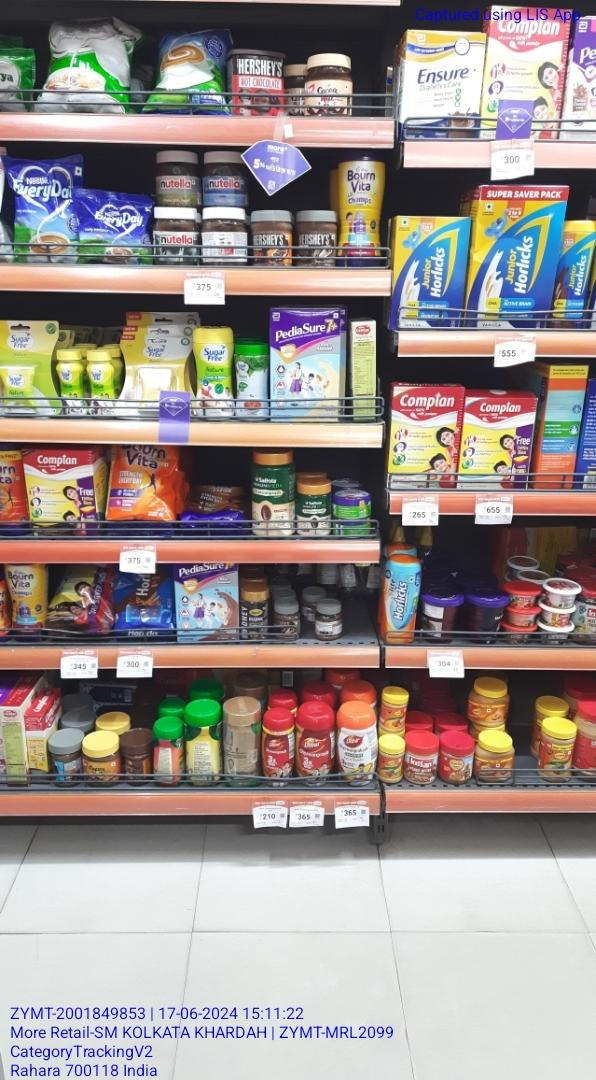BOURN_VITA_500_G_POUCH: (103, 446, 181, 533)
BOURN_VITA_CHAMPS_500_G_JAR: (339, 152, 384, 267), (7, 565, 48, 642)
COMPLAN_CHOCOLATE_500_GMS_PACK: (22, 448, 101, 537)
COMPLAN_CREAMY_CLASSIC_500_G_PACK: (462, 397, 533, 489)
COMPLAN_KESAR_BADAM_500_GMS_PACK: (484, 7, 565, 140), (389, 388, 456, 489)
HORLICKS_LITE_REGULAR_MALT_500_GM_JAR: (380, 553, 420, 645)
PEDIASURE_7_PLUS_CHOCOLATE_400_G_PACK: (175, 563, 241, 642)
